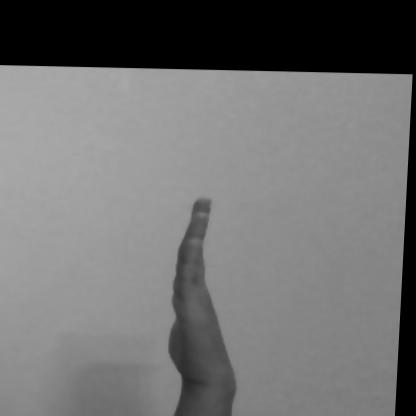palm: (131, 176, 298, 415)
